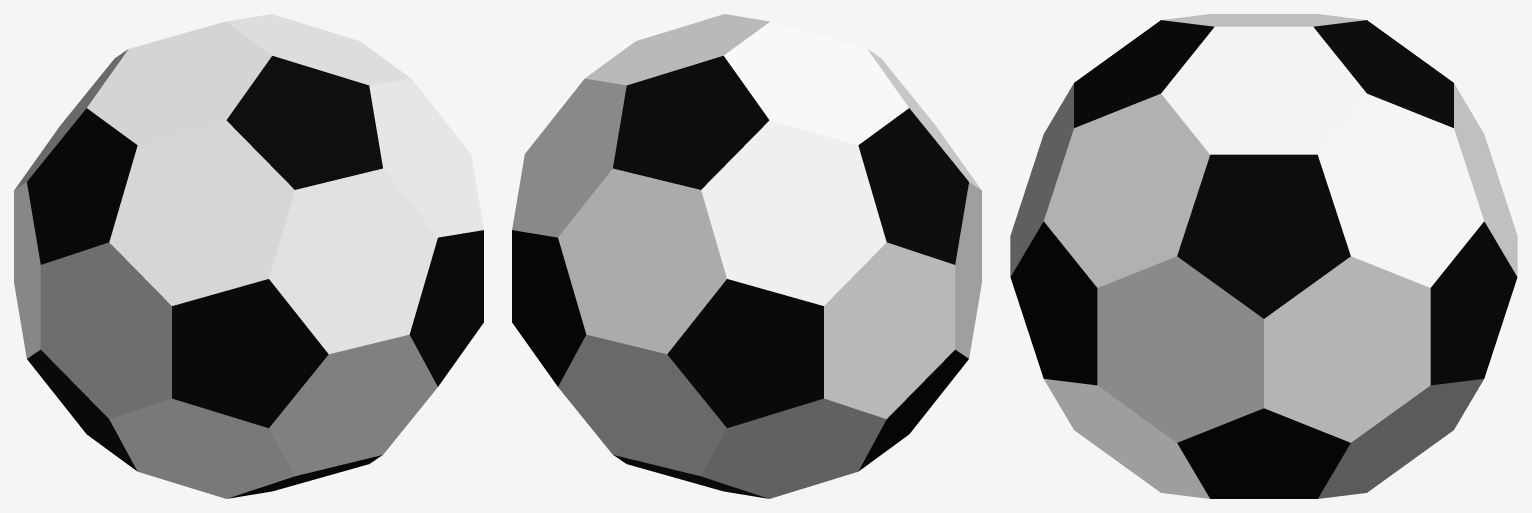
The model's file is football.fbx.
The picture shows the model from 3 angles, left to right: view 1: azimuth 30°, elevation 25°; view 2: azimuth 150°, elevation 25°; view 3: azimuth 270°, elevation 25°; orthographic projection. The views are drawn at different scales.
Visible parts, largest first — view 1: football; view 2: football; view 3: football.
Part boxes in pixels (<box>): football: <box>14,14,483,498</box>; football: <box>512,14,981,498</box>; football: <box>1010,14,1517,498</box>.
Bounding box in the file's own units: 90.31 × 90.31 × 90.31.
Materials: 1 (1 with a texture image).
